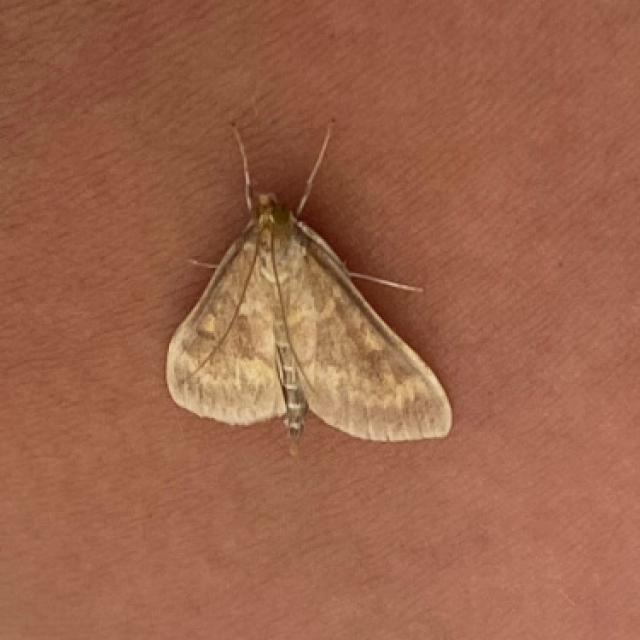cornborer-Adult-: (98, 99, 479, 483)
